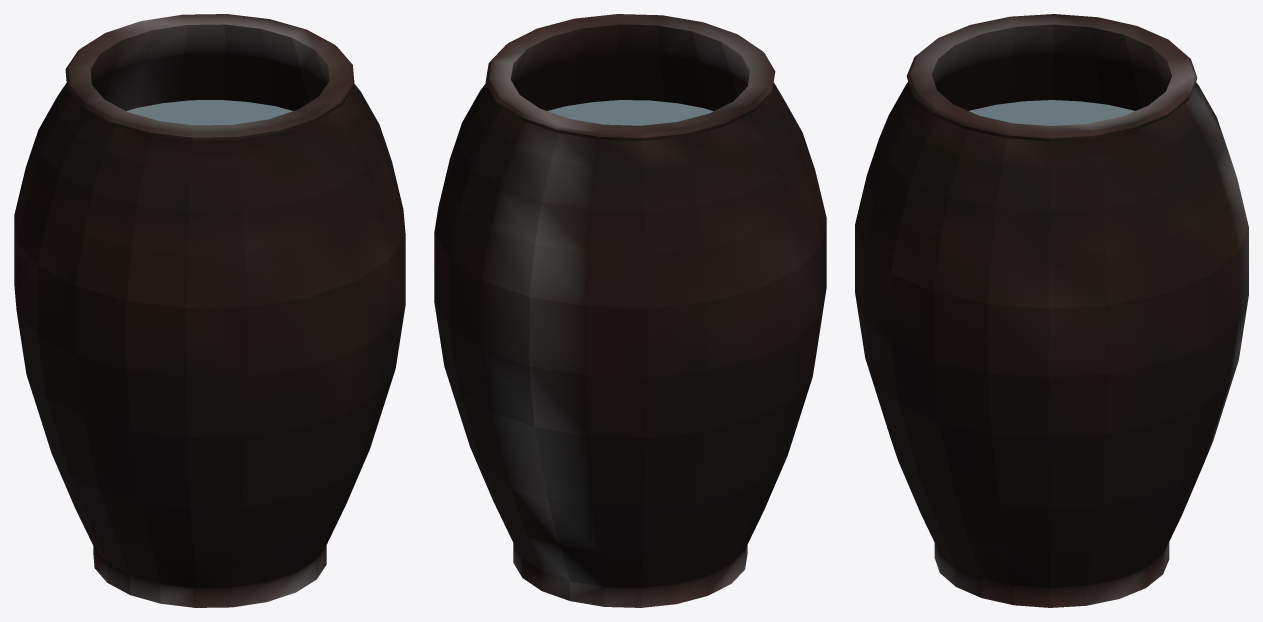
File: filled_water.glb
The picture shows the model from 3 angles, left to right: view 1: azimuth 30°, elevation 25°; view 2: azimuth 150°, elevation 25°; view 3: azimuth 270°, elevation 25°; orthographic projection.
Parts seen in each view (by area): view 1: SM_Jar01a_M_Jar01a_0, variant_water_surface; view 2: SM_Jar01a_M_Jar01a_0, variant_water_surface; view 3: SM_Jar01a_M_Jar01a_0, variant_water_surface.
Boxes of the visible parts, x1,y1,x2,y2 form: SM_Jar01a_M_Jar01a_0: (14, 14, 405, 607); variant_water_surface: (126, 100, 292, 125); SM_Jar01a_M_Jar01a_0: (434, 14, 826, 607); variant_water_surface: (547, 100, 713, 125); SM_Jar01a_M_Jar01a_0: (855, 14, 1248, 607); variant_water_surface: (969, 100, 1134, 125).
Bounding box in the file's own units: 0.6765 × 0.9181 × 0.6765.
